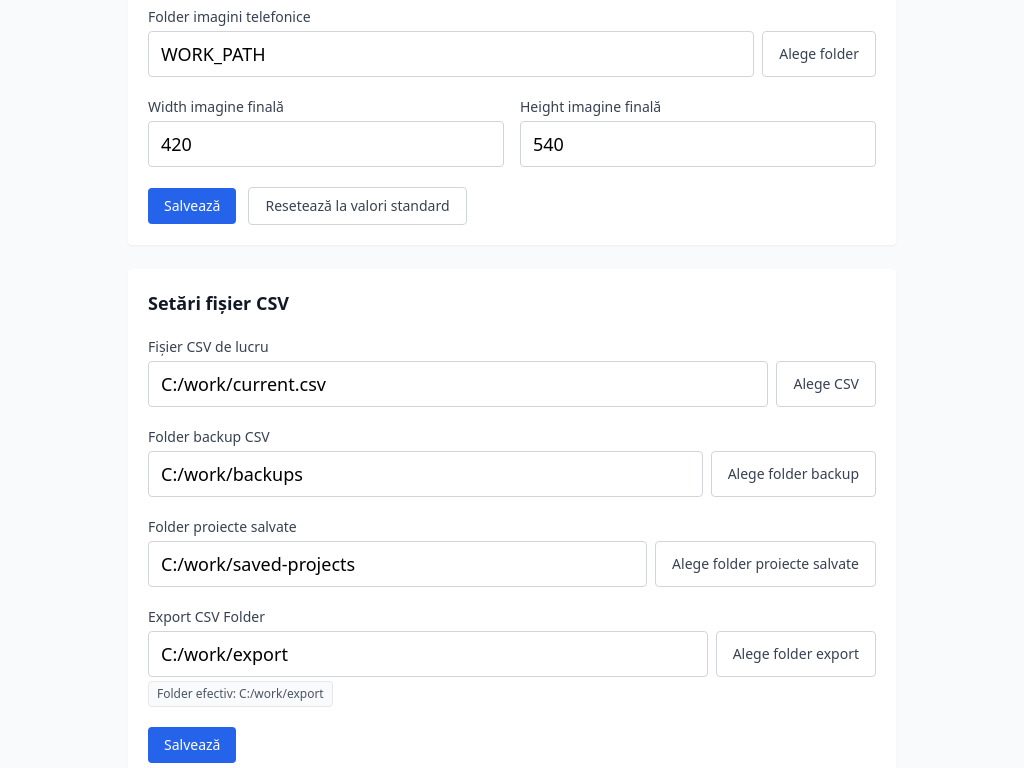
Scenario: DefaultProjectSettingsPage › selects working CSV through the CSV file settings service
(page scrolled)
Click the button "Alege CSV".
click(826, 384)  # box [776,361,876,407]
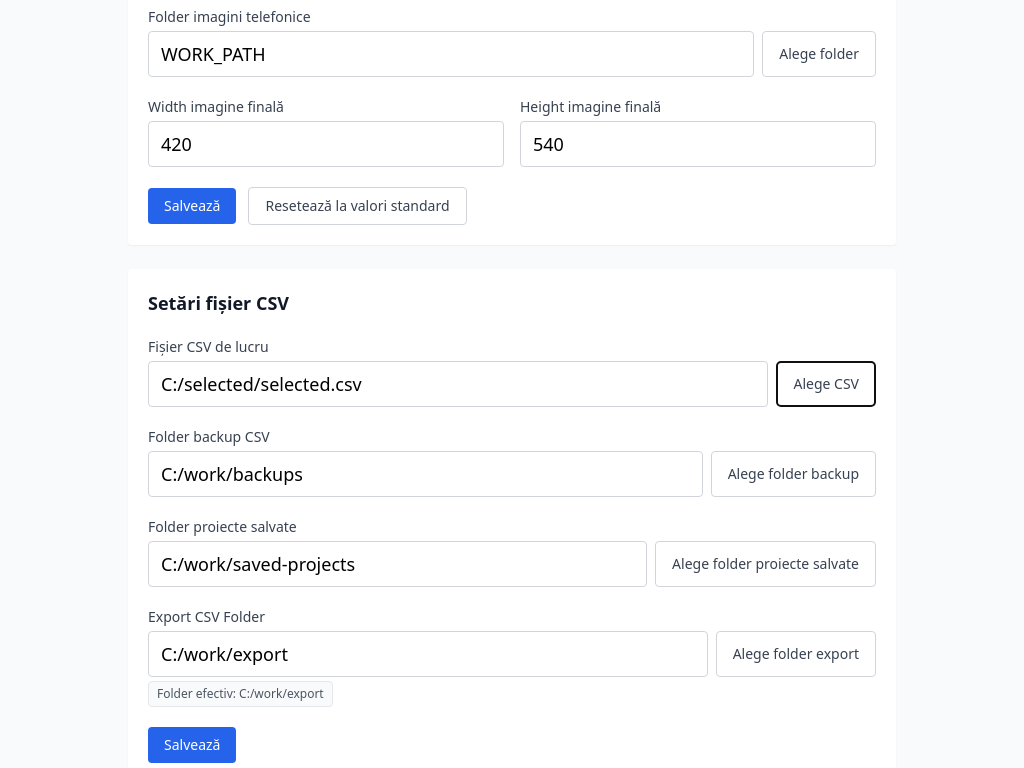
Check: the field labelled "Fișier CSV de lucru" holds "C:/selected/selected.csv", box [148,361,768,407]
